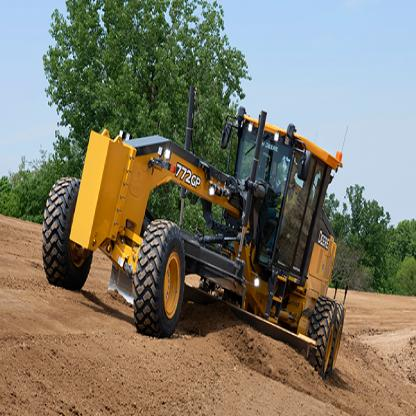bull_dozer/loader/grader: (51, 67, 362, 393)
